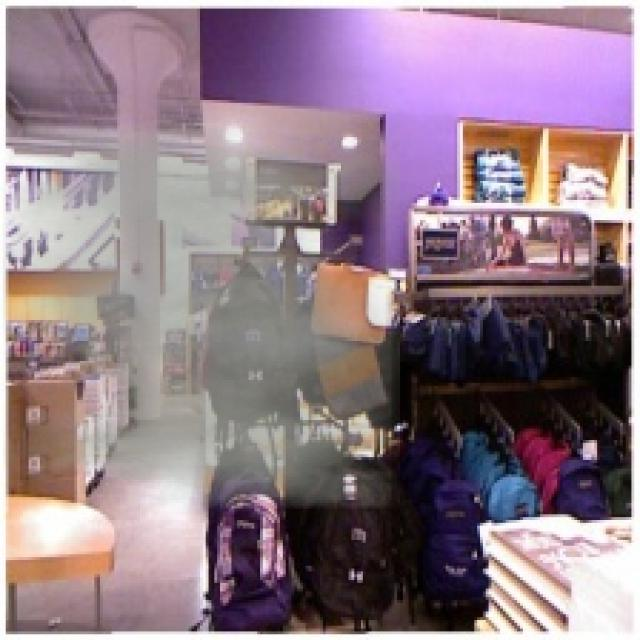smoke: (3, 123, 400, 508)
